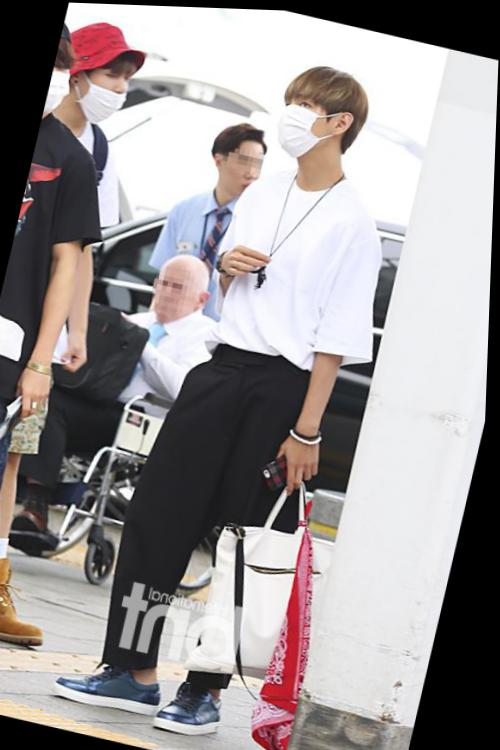OK: (270, 82, 349, 162)
WRONG: (71, 56, 139, 128)
